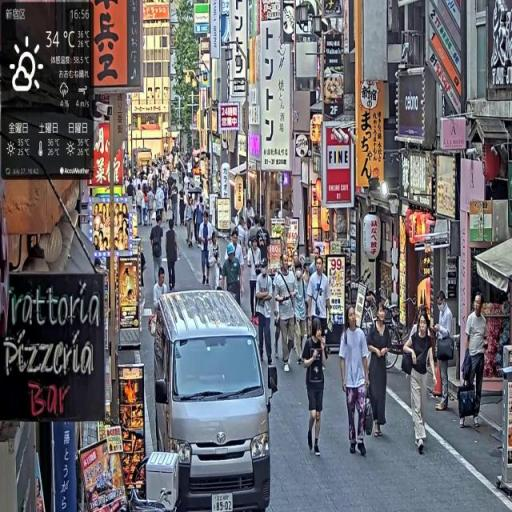person: (402, 308, 437, 455), (339, 305, 372, 459), (461, 292, 490, 431), (302, 319, 330, 461), (367, 304, 393, 440), (433, 289, 456, 413), (275, 250, 298, 371), (255, 260, 278, 369), (246, 232, 266, 327), (223, 240, 245, 307), (200, 211, 215, 291), (165, 218, 180, 294), (151, 215, 166, 285), (185, 197, 196, 250)
